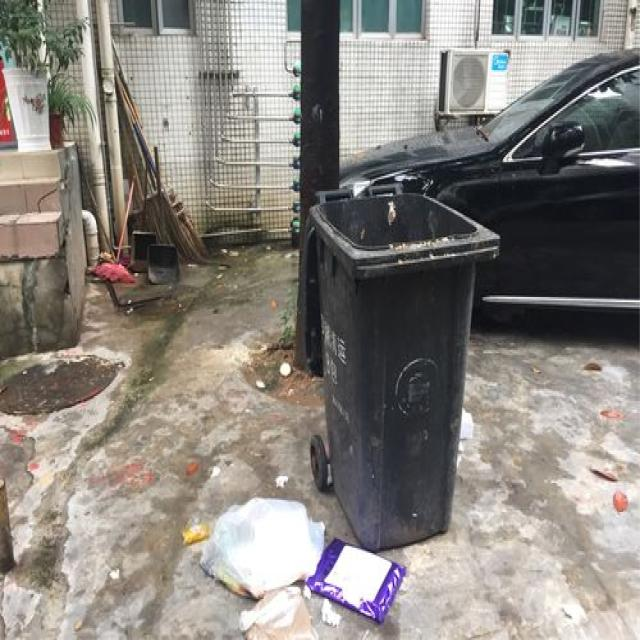garbage: (183, 497, 405, 638)
garbage_bin: (298, 181, 499, 549)
